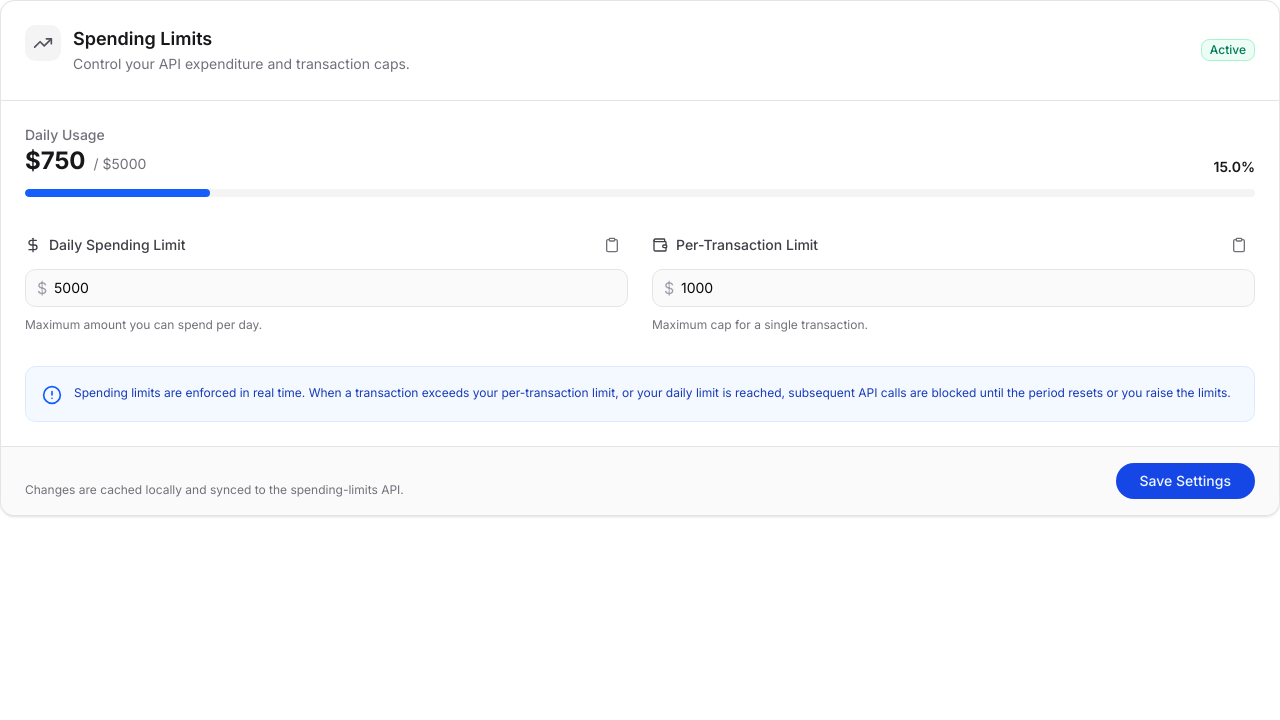
Test: SpendingLimitsCard › shows validation feedback when a limit is invalid
Clear the number field labelled "Daily Spending Limit" at (326, 288), box [25,269,628,307]
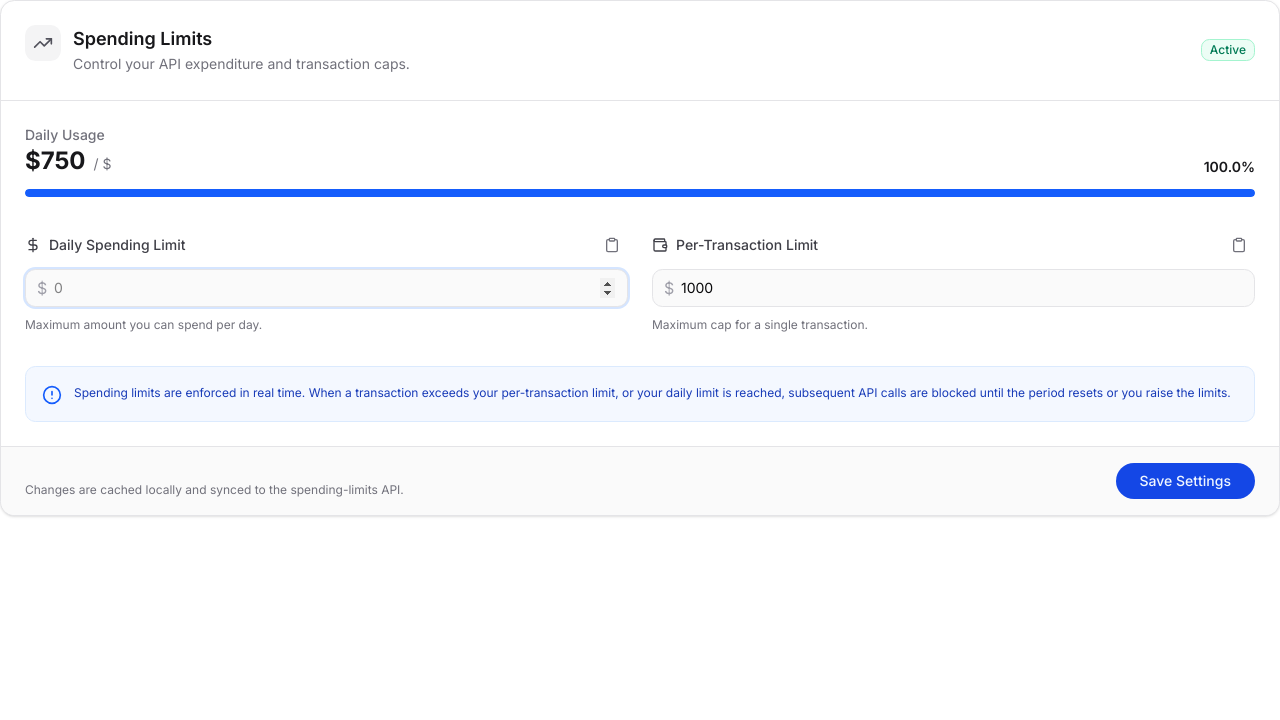
Click the button "Save Settings" at (1185, 481), box [1116,463,1255,499]
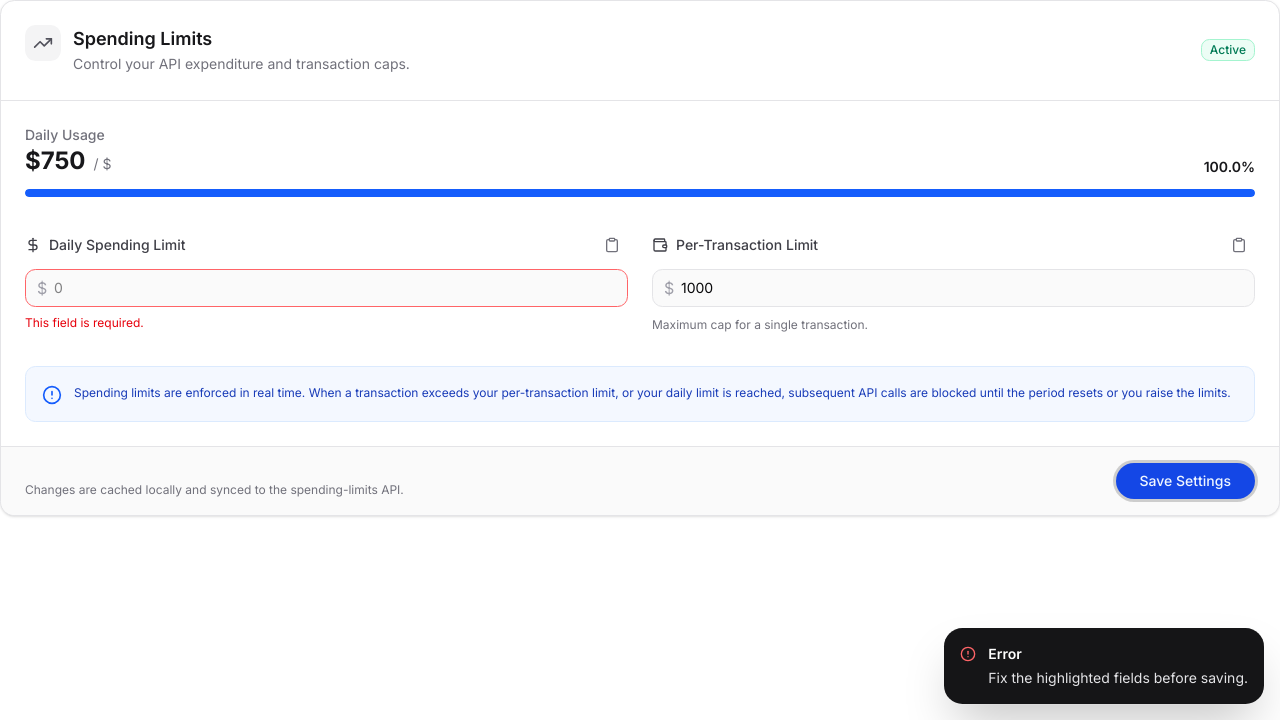
Result: the text "This field is required." is shown at [25,315,144,330]
Result: the text "Fix the highlighted fields before saving." is shown at [988,668,1248,688]
